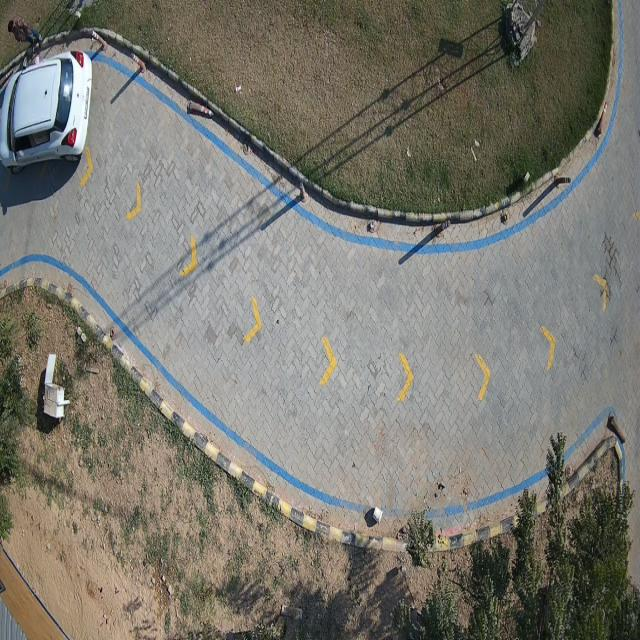car: (0, 51, 92, 173)
